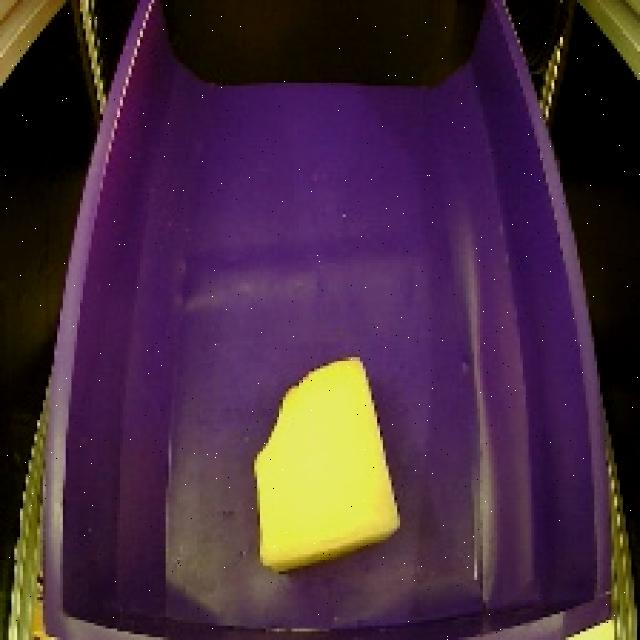potato: (224, 352, 408, 574)
